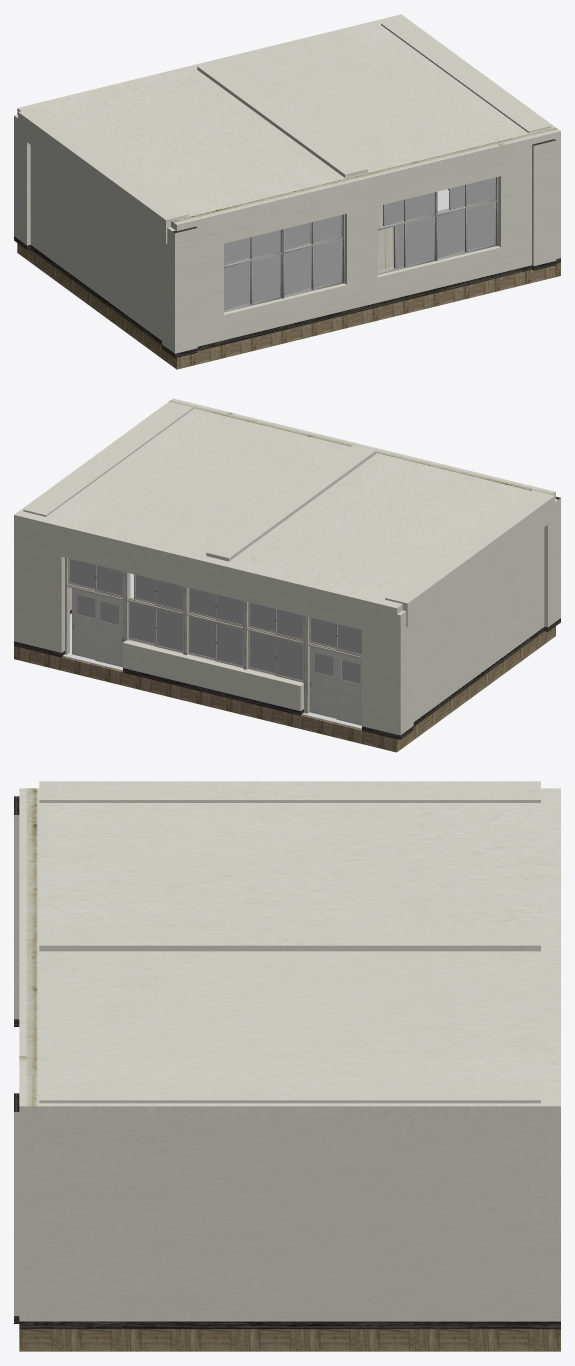
Rendered from school.dae.
3 renders of one model, top to bottom at view 1: azimuth 30°, elevation 25°; view 2: azimuth 150°, elevation 25°; view 3: azimuth 270°, elevation 25°, orthographic. The views are drawn at different scales.
Visible parts, largest first — view 1: ceiling_004, wall_004, pillar_2_004, win5, pillar_1_004, floor_004, frame, curtain01_5; view 2: ceiling_004, wall_004, pillar_2_004, win5, floor_004, pillar_1_004, door1, door2, frame1, frame, door01_pillar, ColBox; view 3: ceiling_004, wall_004, pillar_2_004, floor_004, pillar_1_004.
Boxes of the visible parts, x1,y1,x2,y2 form: ceiling_004: [17, 14, 560, 232]; wall_004: [30, 137, 560, 350]; pillar_2_004: [18, 18, 551, 243]; win5: [224, 177, 495, 310]; pillar_1_004: [14, 114, 556, 357]; floor_004: [17, 243, 560, 369]; frame: [224, 176, 498, 312]; curtain01_5: [377, 205, 393, 270]; ceiling_004: [14, 398, 555, 620]; wall_004: [14, 521, 544, 738]; pillar_2_004: [23, 402, 554, 627]; win5: [68, 558, 361, 682]; floor_004: [14, 626, 555, 752]; pillar_1_004: [397, 496, 560, 739]; door1: [95, 594, 361, 725]; door2: [72, 588, 336, 718]; frame1: [125, 572, 304, 712]; frame: [65, 557, 361, 713]; door01_pillar: [123, 572, 306, 713]; ColBox: [63, 573, 361, 729]; ceiling_004: [19, 788, 560, 1128]; wall_004: [19, 1117, 560, 1328]; pillar_2_004: [39, 781, 540, 1103]; floor_004: [19, 1329, 560, 1351]; pillar_1_004: [14, 796, 19, 1323].
Size of what is drawn, in the model's own units: 8.17 by 5.86 by 2.97.
Materials: 11 (9 with a texture image).
